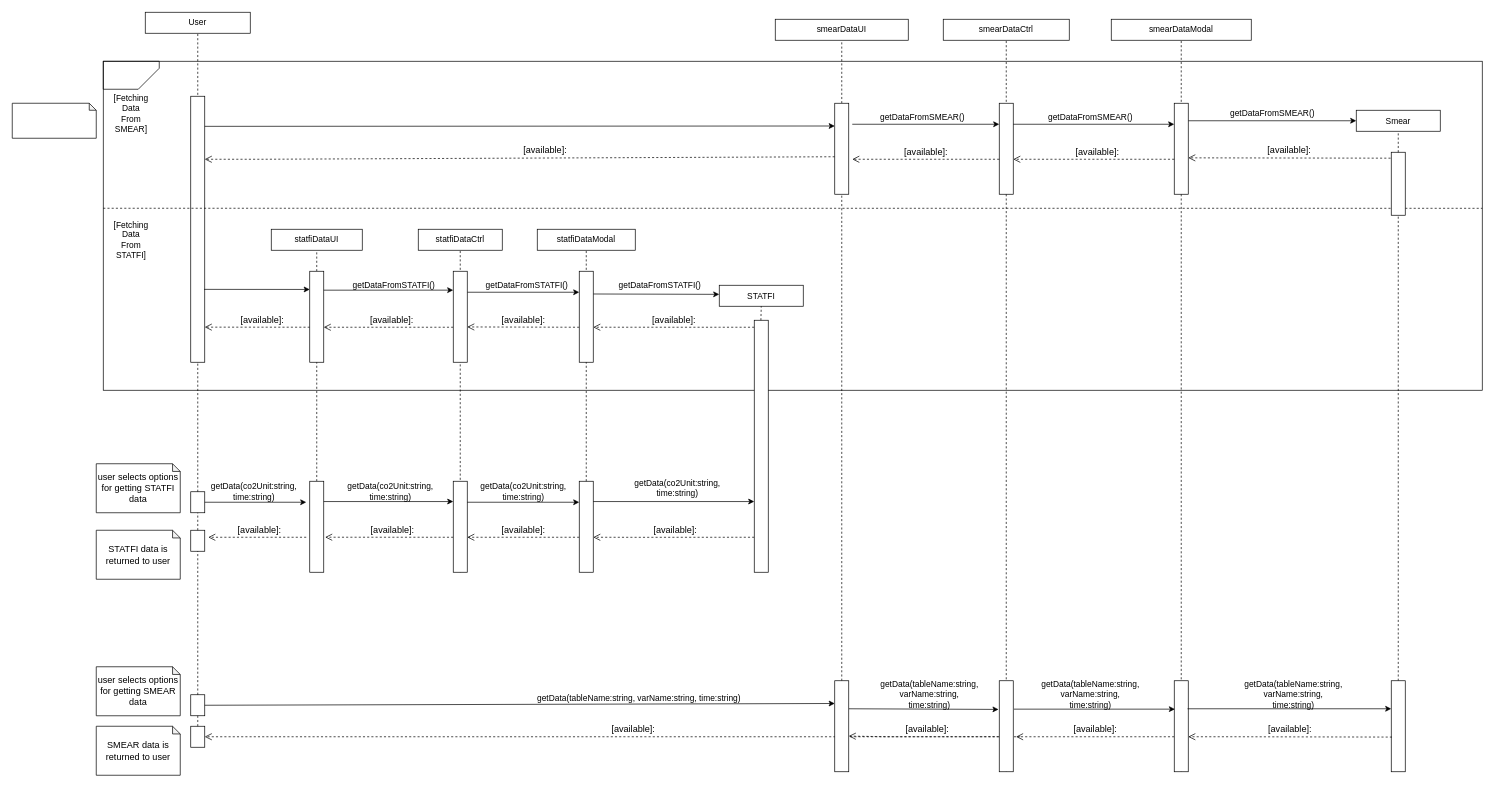
Image size: 1495x788. Some labels were removed from this diagram. Here are the shapes that lost their labels. From the top down, the box of each, then its label:
(103, 61, 159, 89): par
(12, 103, 96, 138): the user opens up the software
